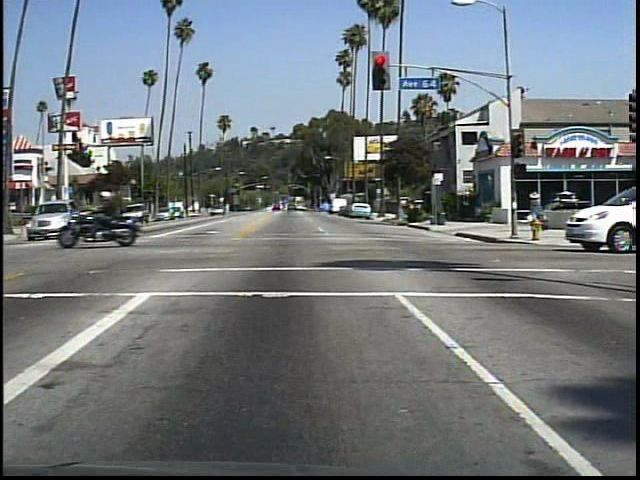person: (98, 188, 136, 244), (523, 186, 549, 218)
